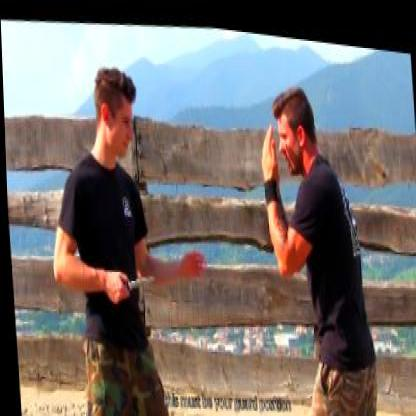knife: (102, 258, 156, 306)
